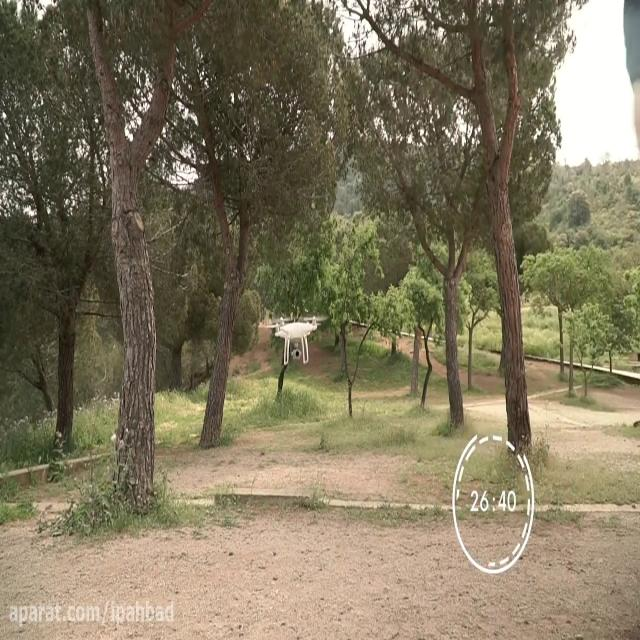drone: (266, 309, 330, 366)
